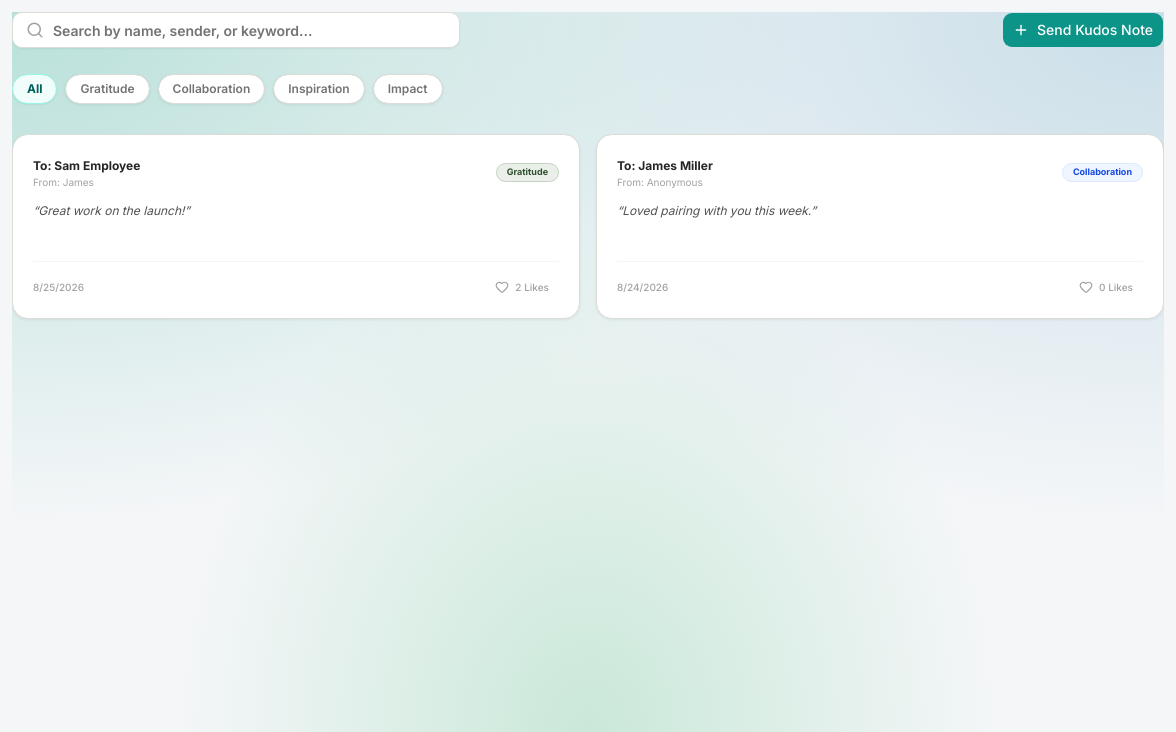
Test: KudosFeed › category filter pills filter the feed
Check: the text "“Great work on the launch!”" is shown, box [33,203,190,218]
Click the button "Collaboration" at (211, 89), box [158,74,265,104]
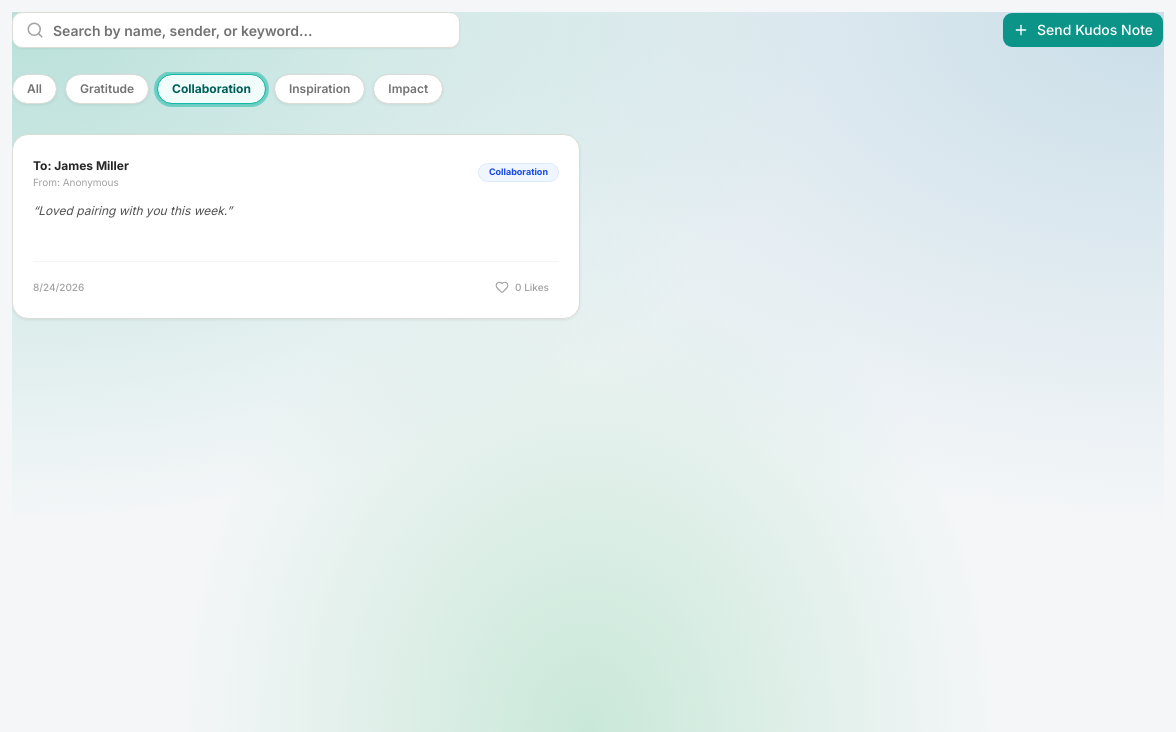
Check: the text "“Loved pairing with you this week.”" is shown, box [33,203,232,218]
Check: the text "Great work on the launch" is gone
